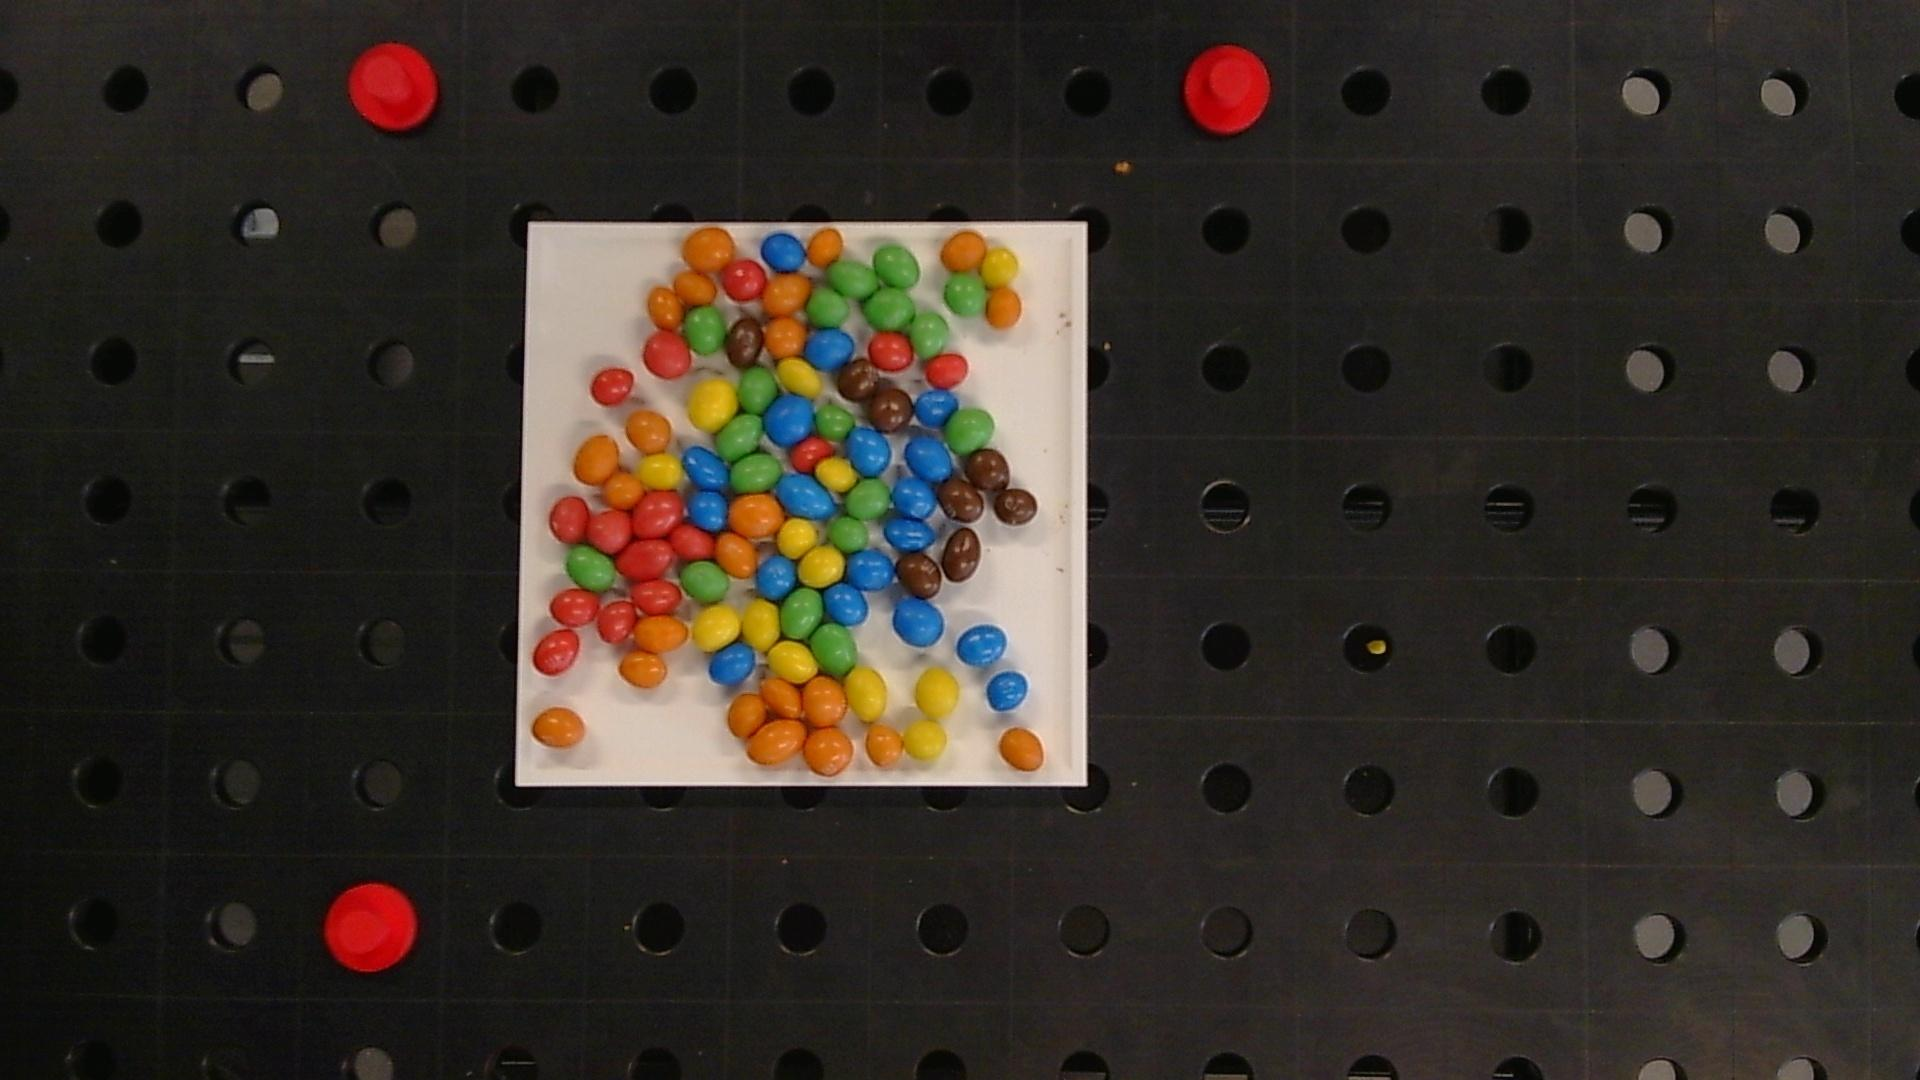blue: (885, 517, 942, 600), (778, 473, 837, 518), (893, 597, 944, 646), (765, 394, 814, 444), (905, 436, 952, 481), (848, 427, 891, 475), (708, 642, 757, 684), (804, 328, 855, 369), (957, 625, 1006, 666), (683, 447, 729, 489), (847, 551, 895, 591), (824, 584, 869, 625), (893, 477, 938, 518), (884, 517, 934, 553), (761, 232, 806, 270), (986, 671, 1029, 711), (687, 489, 728, 529), (757, 556, 796, 597), (915, 389, 957, 427)
brown: (940, 527, 981, 583), (939, 476, 984, 524), (898, 553, 942, 599), (870, 386, 913, 433), (725, 316, 764, 365), (965, 448, 1009, 491), (837, 359, 878, 401), (993, 488, 1038, 526)
green: (812, 624, 857, 674), (566, 546, 616, 591), (716, 413, 764, 459), (864, 289, 915, 331), (945, 410, 994, 454), (680, 562, 731, 604), (781, 589, 823, 638), (873, 245, 920, 287), (683, 306, 725, 353), (731, 452, 781, 492), (943, 274, 986, 316), (847, 479, 891, 520), (911, 311, 948, 359), (829, 262, 878, 298), (807, 287, 849, 327), (738, 368, 777, 411), (828, 514, 868, 551), (816, 405, 856, 439)
orange: (746, 719, 806, 765), (804, 728, 855, 775), (729, 493, 783, 537), (683, 227, 735, 270), (531, 707, 585, 748), (574, 435, 618, 484), (803, 678, 847, 725), (634, 615, 688, 651), (1000, 728, 1044, 771), (762, 274, 810, 315), (715, 533, 757, 578), (942, 231, 986, 272), (626, 410, 670, 451), (764, 318, 806, 359), (620, 653, 667, 688), (864, 725, 903, 766), (728, 694, 766, 736), (761, 678, 802, 716), (604, 471, 644, 506), (649, 286, 683, 327), (674, 272, 716, 305), (986, 289, 1022, 327), (807, 228, 843, 265)
red: (632, 491, 684, 537), (642, 331, 691, 378), (617, 539, 673, 580), (533, 630, 580, 674), (588, 509, 632, 551), (721, 260, 766, 299), (550, 497, 588, 543), (550, 589, 599, 625), (596, 600, 636, 644), (868, 332, 914, 369), (589, 368, 634, 405), (630, 580, 679, 613), (924, 353, 968, 388), (670, 525, 715, 558), (791, 436, 833, 471)
yellow: (687, 380, 737, 430), (845, 667, 887, 721), (915, 669, 960, 717), (692, 605, 740, 650), (769, 642, 818, 682), (799, 546, 845, 587), (742, 600, 779, 649), (903, 720, 947, 760), (778, 359, 822, 397), (778, 518, 818, 556), (638, 454, 682, 488), (982, 248, 1019, 287), (816, 458, 857, 491)
